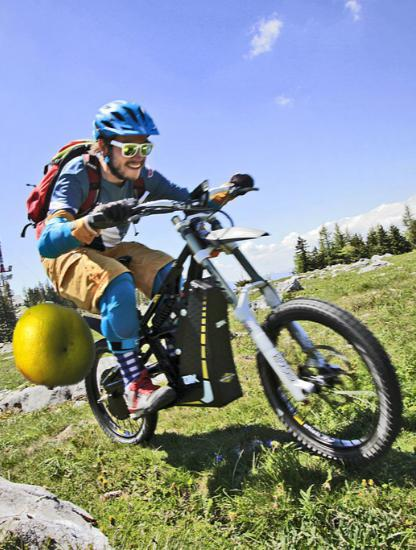Pomelo: (10, 302, 99, 391)
